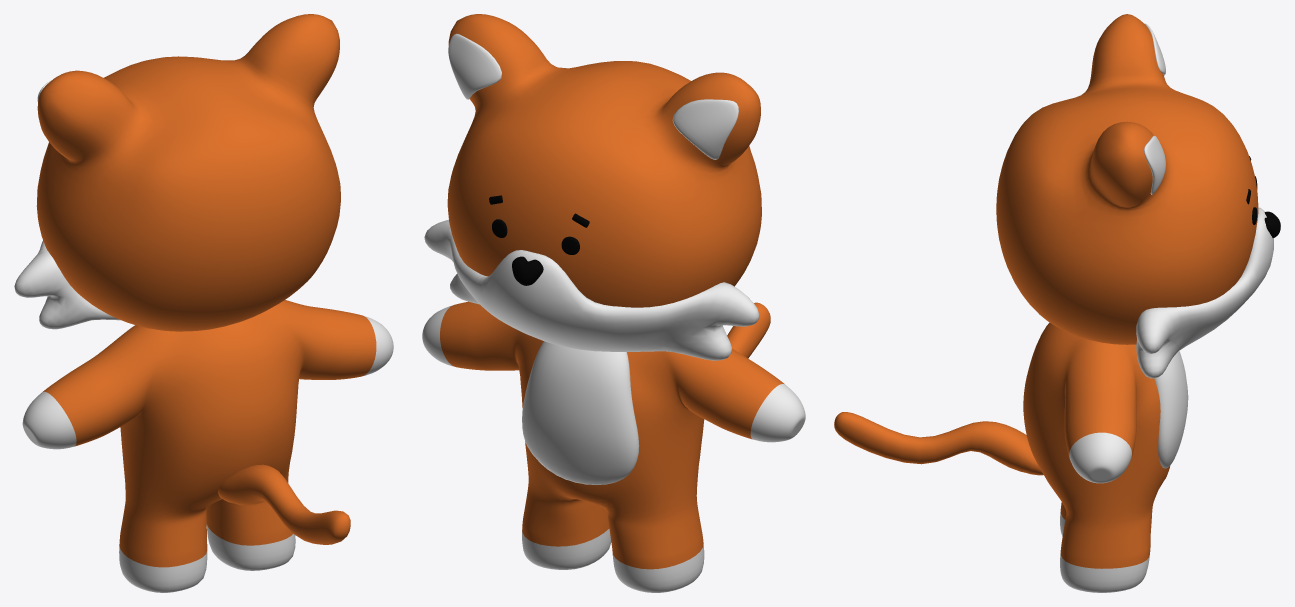
The model's file is HorangiBase.fbx.
3 renders of one model, left to right at view 1: azimuth 30°, elevation 25°; view 2: azimuth 150°, elevation 25°; view 3: azimuth 270°, elevation 25°, orthographic. The views are drawn at different scales.
Visible parts, largest first — view 1: Cube, Cube.001, Cube.008, Cube.002; view 2: Cube, Cube.001, Cube.002, Cube.004, Cube.003, Cube.008, Cube.007, Cube.005; view 3: Cube, Cube.001, Cube.008, Cube.002, Cube.004, Cube.003.
Part boxes in pixels (x1,y1,x2,y2): Cube: (36, 14, 340, 331); Cube.001: (22, 300, 393, 592); Cube.008: (217, 464, 350, 544); Cube.002: (14, 240, 120, 329); Cube: (447, 14, 761, 307); Cube.001: (422, 301, 805, 592); Cube.002: (424, 219, 759, 360); Cube.004: (522, 341, 639, 484); Cube.003: (448, 33, 738, 159); Cube.008: (727, 302, 770, 358); Cube.007: (512, 256, 543, 285); Cube.005: (492, 219, 579, 254); Cube: (996, 14, 1258, 344); Cube.001: (1023, 322, 1169, 592); Cube.008: (834, 412, 1043, 475); Cube.002: (1136, 207, 1273, 378); Cube.004: (1154, 351, 1188, 468); Cube.003: (1144, 23, 1165, 194).
Bounding box in the file's own units: 317 × 429 × 358.
